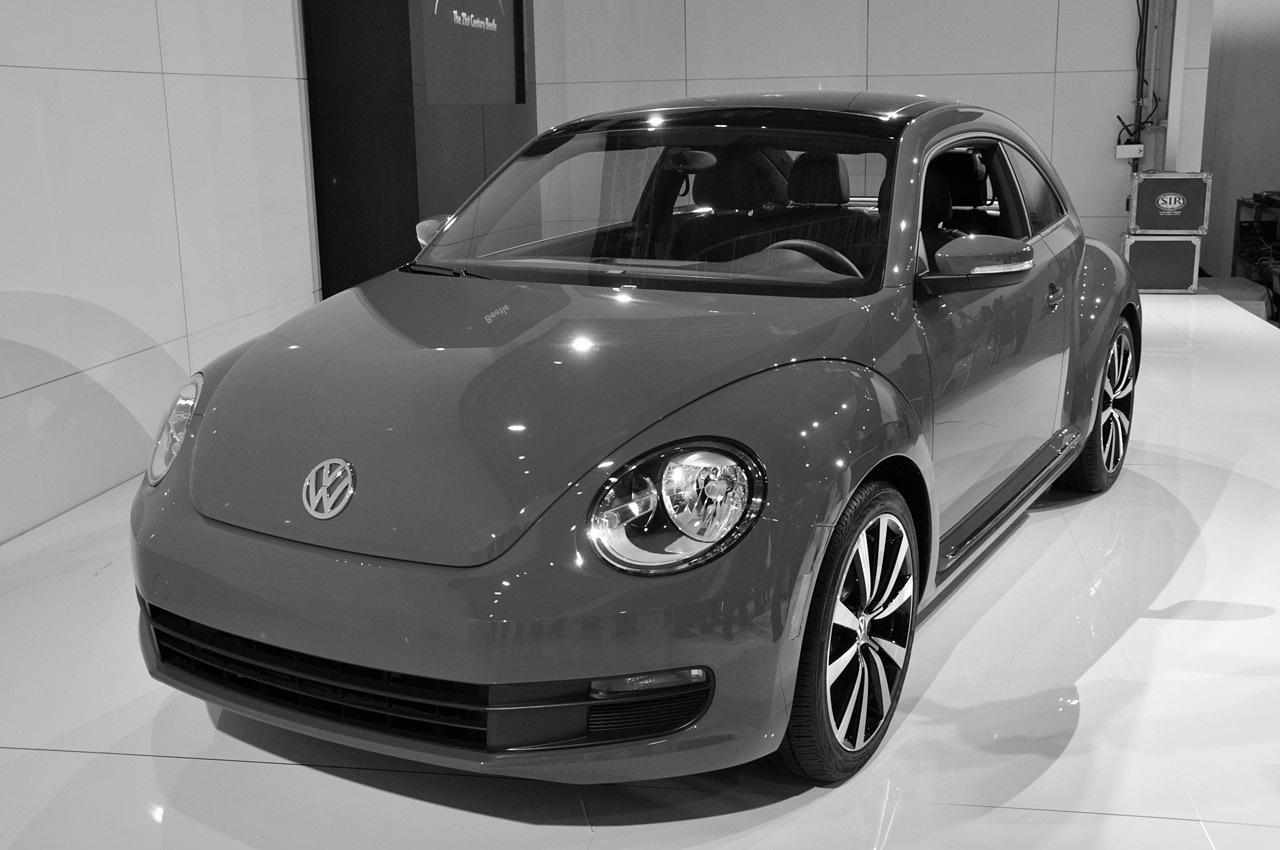car: (135, 95, 1142, 789)
